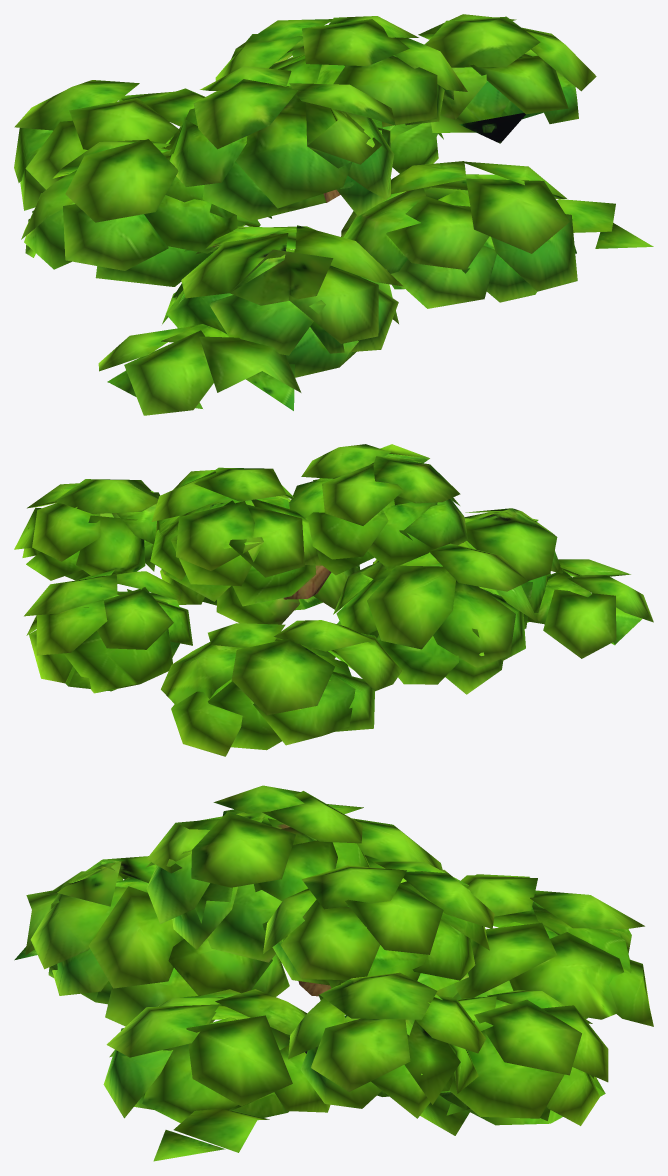
The model's file is treecrown.glb.
3 renders of one model, top to bottom at view 1: azimuth 30°, elevation 25°; view 2: azimuth 150°, elevation 25°; view 3: azimuth 270°, elevation 25°, orthographic. The views are drawn at different scales.
Parts seen in each view (by area): view 1: treecrown; view 2: treecrown; view 3: treecrown.
Part boxes in pixels (x1,y1,x2,y2): treecrown: (14,14,653,415); treecrown: (14,444,653,756); treecrown: (14,785,653,1161).
Size of the model in its own units: 1 by 0.337 by 0.9374.
1 material, 1 textured.
